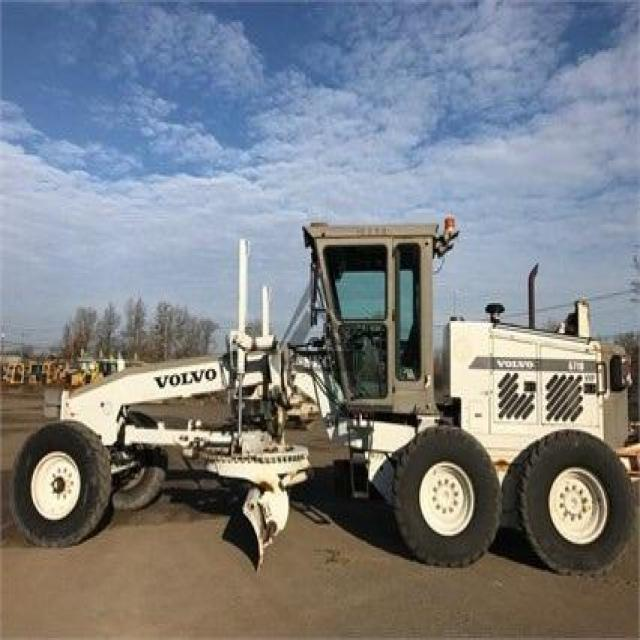Grader: (7, 194, 638, 596)
